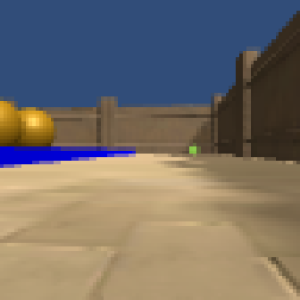goodGoal: (188, 143, 203, 157)
goodGoalMulti: (22, 104, 63, 148), (1, 98, 25, 149)
platform: (1, 146, 139, 164)
